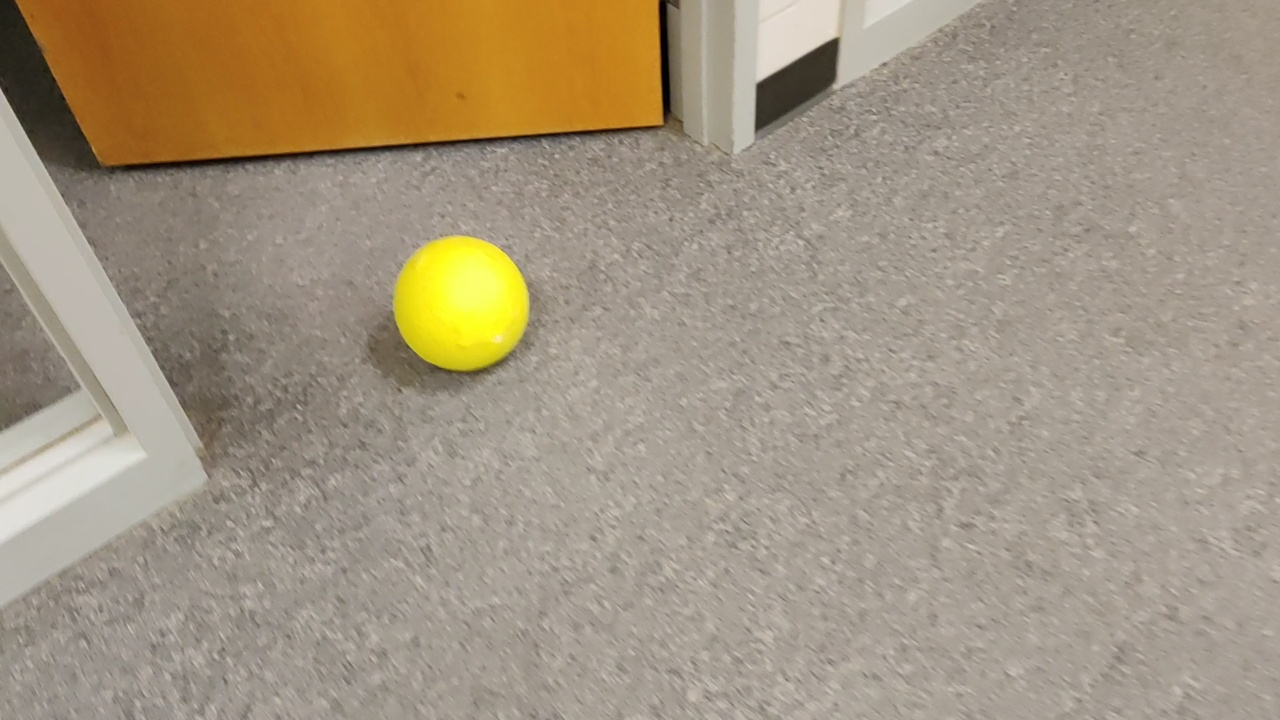Ball: (385, 228, 536, 375)
